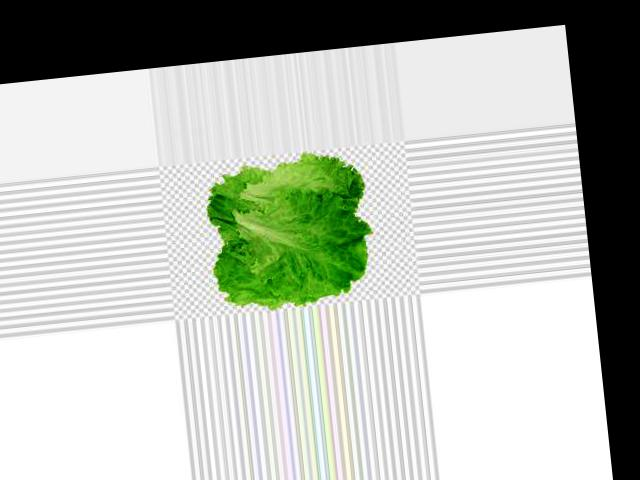lettuce: (210, 166, 380, 307)
